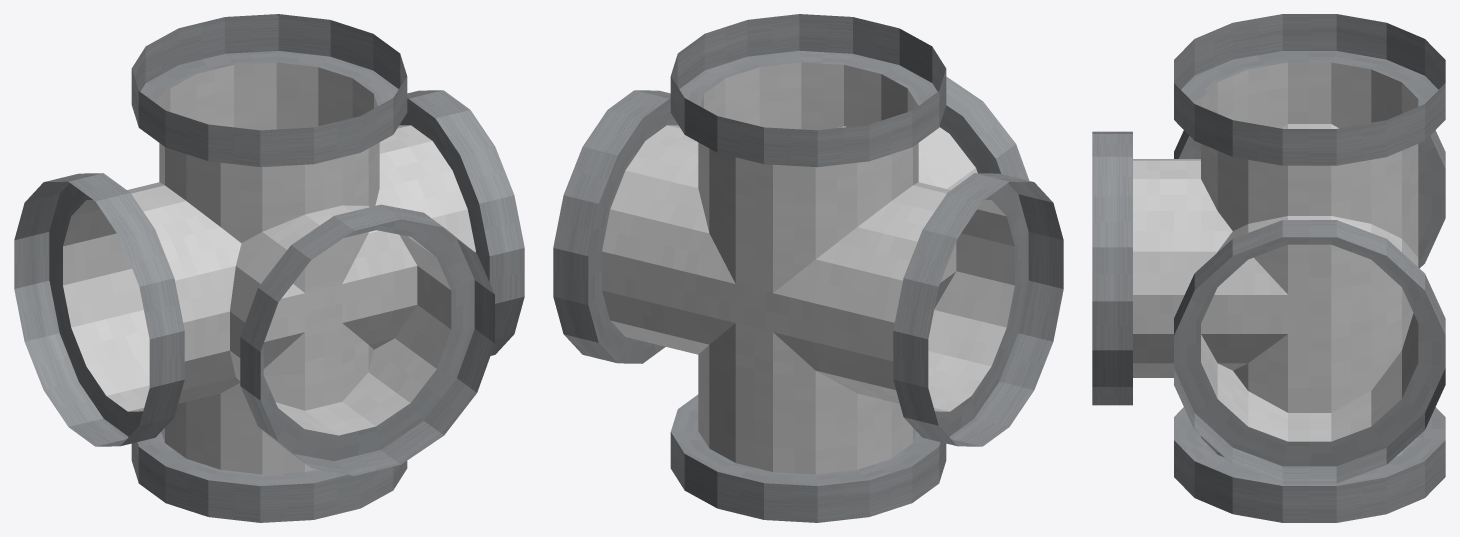
Rendered from connection_59.obj.
The picture shows the model from 3 angles, left to right: view 1: azimuth 30°, elevation 25°; view 2: azimuth 150°, elevation 25°; view 3: azimuth 270°, elevation 25°; orthographic projection.
Size of the model in its own units: 1 by 1 by 0.8125.
